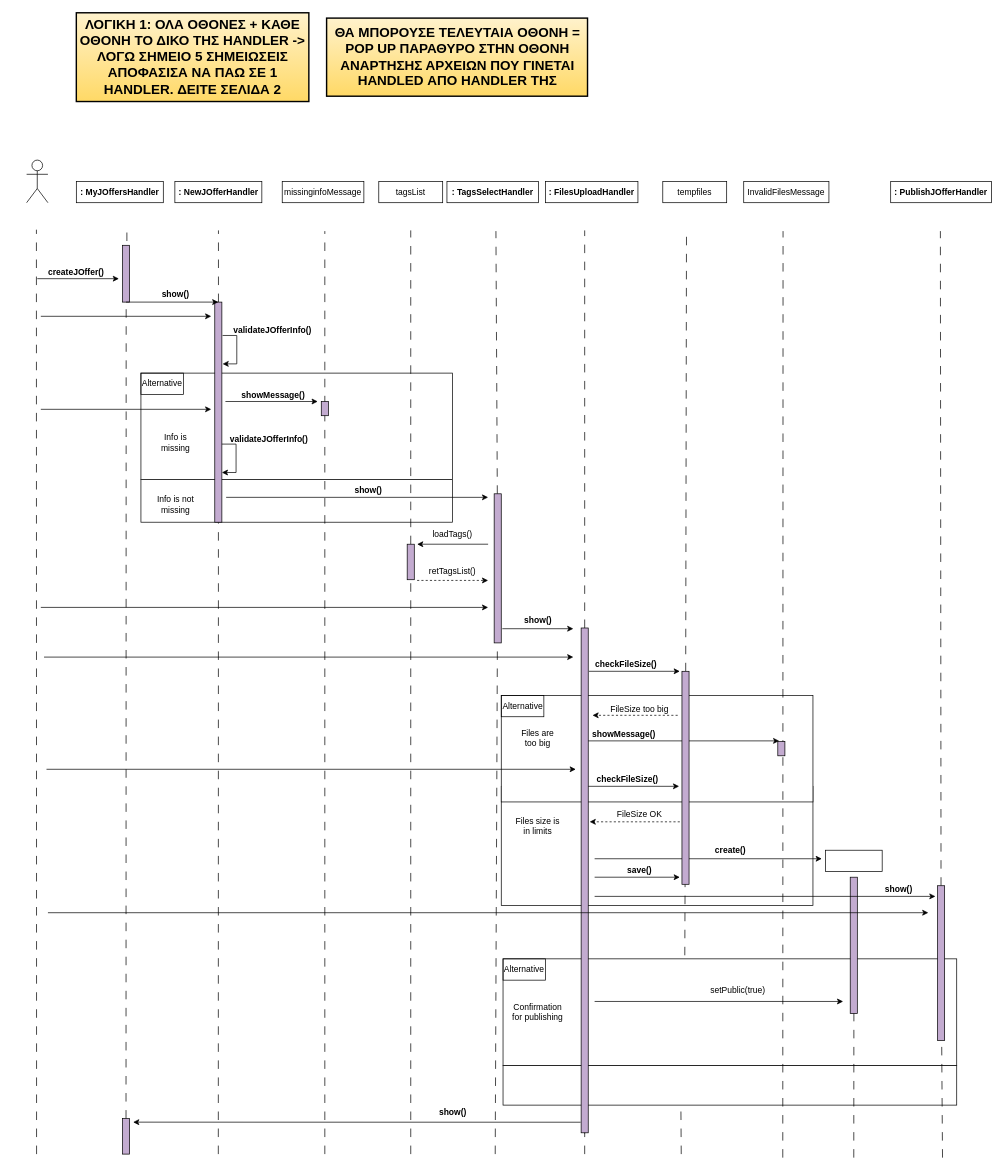
Some shapes in this 1004 by 1171 pixel diagram are drawn without their labels. Each missing label, with the centre of its shape:
Confirmation for saving: the point at 729,1085
New : JOffer: the point at 853,861
Πολιτιστικός Οργανισμός: the point at 37,181
